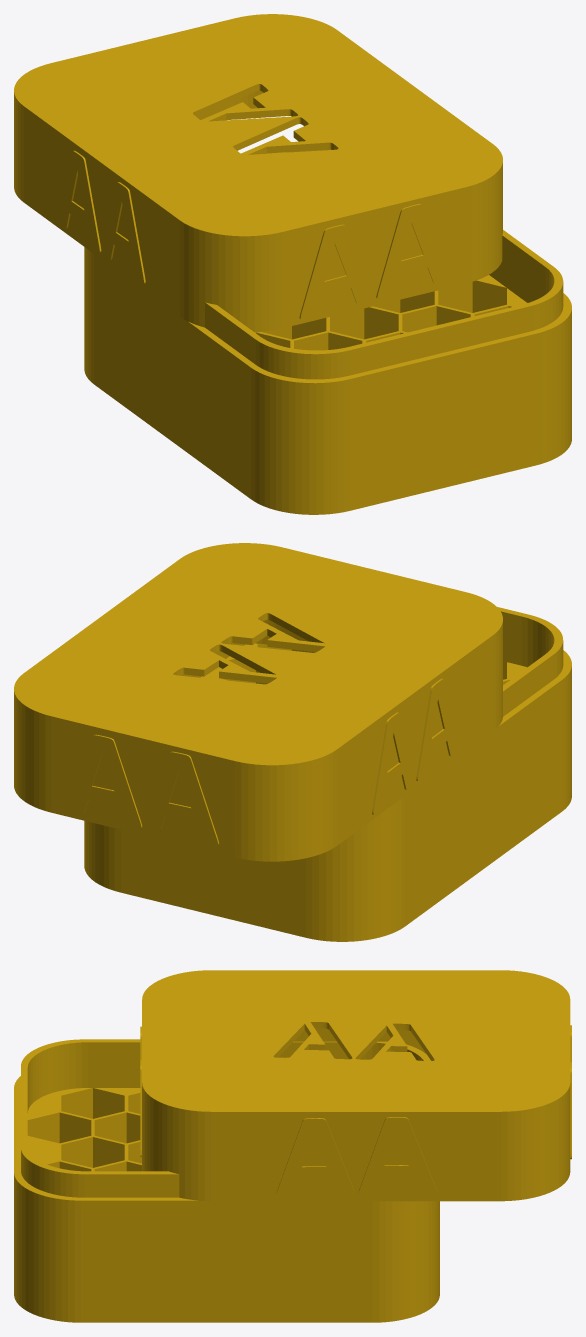
The model's file is battery-hive.glb.
The picture shows the model from 3 angles, top to bottom: view 1: azimuth 30°, elevation 25°; view 2: azimuth 150°, elevation 25°; view 3: azimuth 270°, elevation 25°; orthographic projection. The views are drawn at different scales.
Parts seen in each view (by area): view 1: battery-hive; view 2: battery-hive; view 3: battery-hive.
Boxes of the visible parts, bbox=[...] form: battery-hive: bbox=[14, 14, 571, 514]; battery-hive: bbox=[14, 543, 571, 941]; battery-hive: bbox=[14, 970, 571, 1322].
Bounding box in the file's own units: 78.62 × 54.15 × 130.
